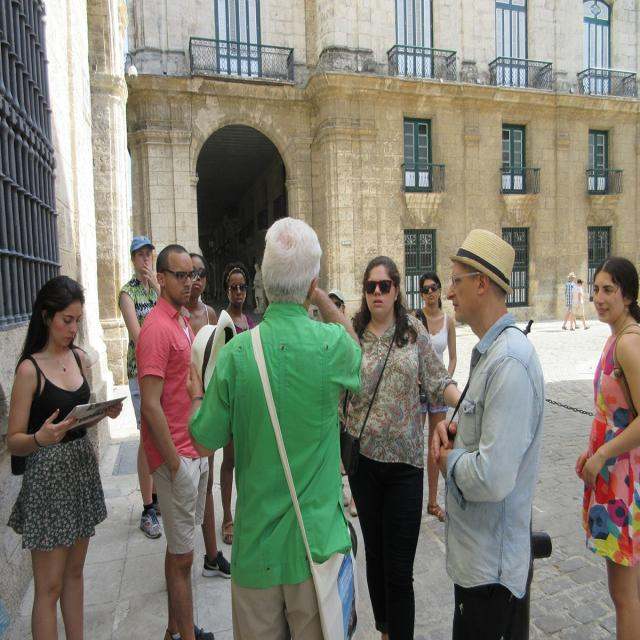body: (182, 213, 372, 640), (427, 225, 548, 639), (337, 255, 462, 640), (3, 271, 129, 639), (134, 241, 216, 639), (574, 251, 640, 639), (185, 253, 233, 582), (117, 234, 164, 540), (409, 270, 457, 523), (216, 260, 256, 546), (569, 277, 592, 332), (561, 272, 581, 331), (250, 259, 268, 315), (326, 288, 346, 318)
